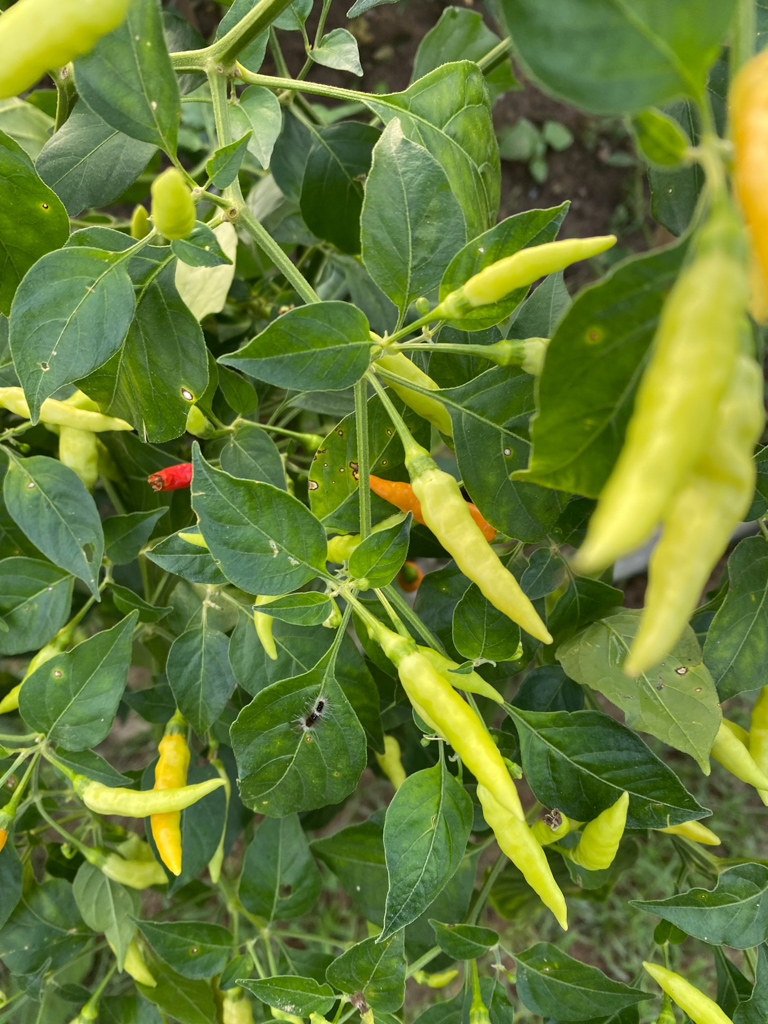frog-eye leafspot: (175, 382, 197, 403), (672, 660, 692, 680), (348, 458, 362, 485), (37, 195, 51, 216), (306, 477, 321, 495), (48, 667, 66, 681), (502, 442, 516, 459), (379, 424, 393, 439), (335, 428, 346, 436)
